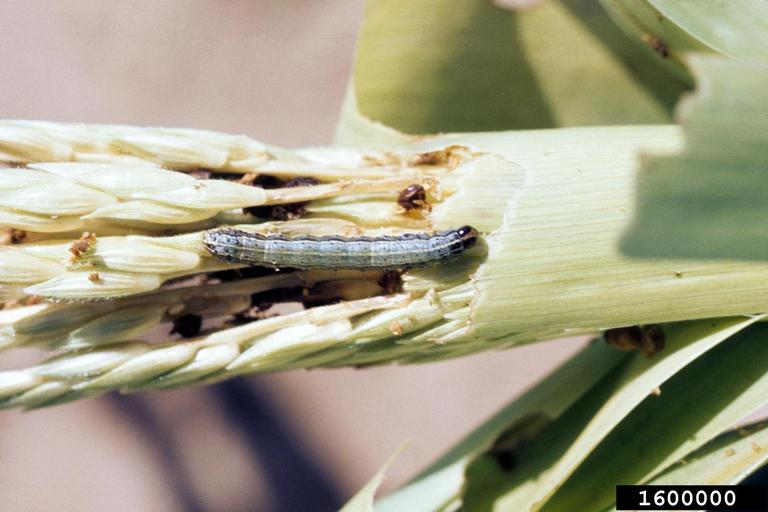Armyworm: (185, 220, 522, 288)
